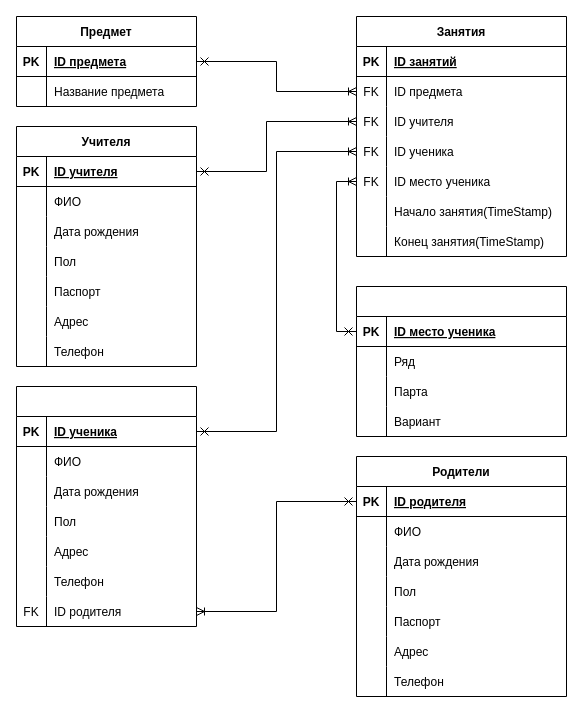
The diagram is 583 pixels wide and 713 high, and some of its shapes have lost their labels. Here are the shapes that lost their labels. From the top down, the box of each, then its label:
(356, 286, 566, 436): Кабинет
(16, 386, 196, 626): Ученики
